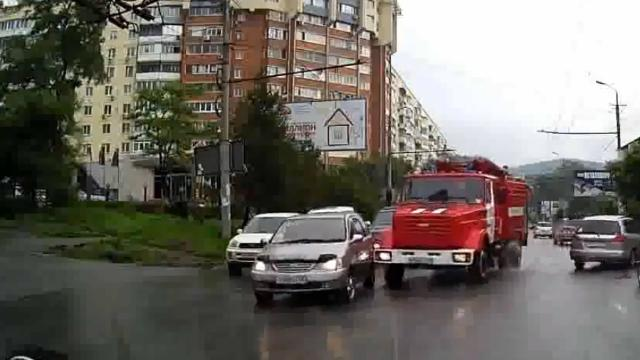fire fighting vehicle: (374, 162, 531, 288)
non emergency car: (252, 212, 372, 308), (228, 208, 303, 276), (571, 215, 640, 274)
